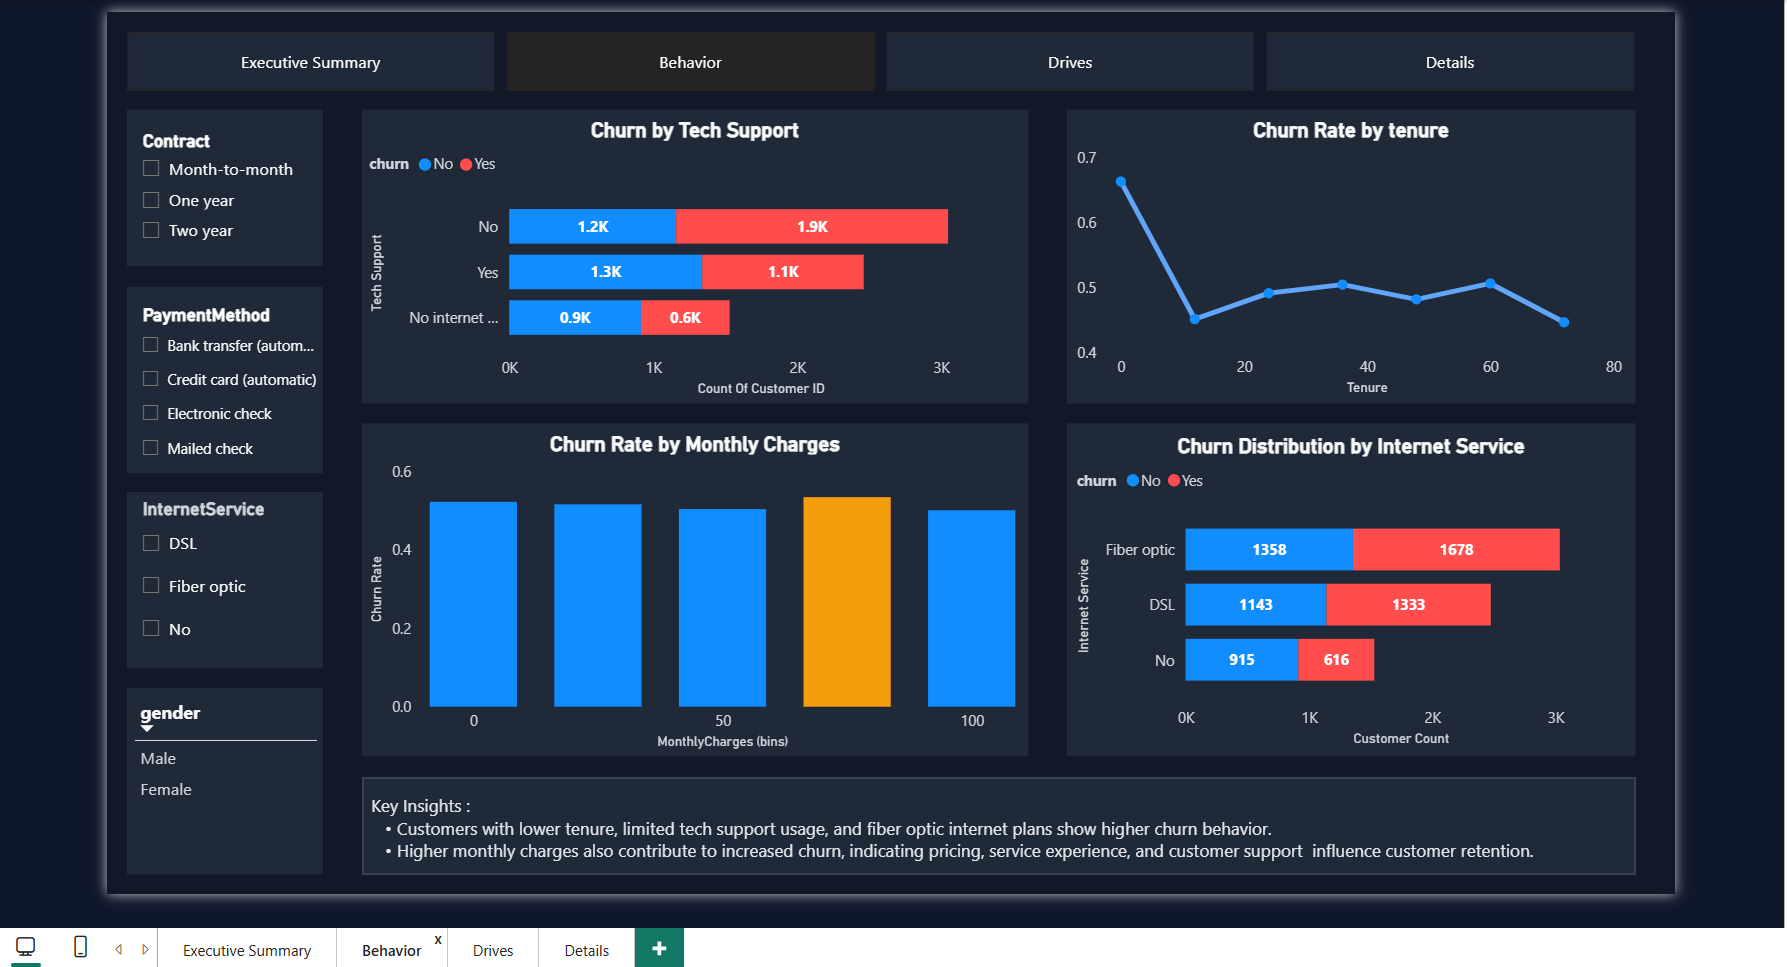

The page's visual inventory and layout, read from the dashboard file:
{"tool":"powerbi","page":{"name":"Behavior ","canvas":[1280,720],"ordinal":1},"visuals":[{"type":"slicer","title":"Contract Type","fields":{"Values":["churn_project customers.Contract"]},"box":[16,80,160,128],"z":0},{"type":"slicer","title":"Payment Method","fields":{"Values":["churn_project customers.PaymentMethod"]},"box":[16,224,160,152],"z":1000},{"type":"slicer","title":"Type of Internet Service ","fields":{"Values":["churn_project customers.InternetService"]},"box":[16,392,160,144],"z":2000},{"type":"lineChart","title":"Churn Rate by tenure ","fields":{"Category":["churn_project customers.tenure (bins)"],"Y":["churn_project customers.Churn Rate"]},"box":[784,80,464,240],"z":3000},{"type":"barChart","title":"Churn by Tech Support ","fields":{"Y":["CountNonNull(churn_project fact_churn.customerID)"],"Category":["churn_project customers.TechSupport"],"Series":["churn_project fact_churn.churn"]},"box":[208,80,544,240],"z":4000},{"type":"columnChart","title":"Churn Rate by Monthly Charges ","fields":{"Category":["churn_project customers.MonthlyCharges (bins)"],"Y":["churn_project customers.Churn Rate"]},"box":[208,336,544,272],"z":5000},{"type":"tableEx","fields":{"Values":["churn_project customers.gender"]},"box":[16,552,160,152],"z":6000},{"type":"barChart","title":"Churn Distribution by Internet Service ","fields":{"Category":["churn_project dim_services.internet_service"],"Y":["CountNonNull(churn_project customers.Churn)"],"Series":["churn_project fact_churn.churn"]},"box":[784,336,464,272],"z":7000},{"type":"textbox","box":[208,624,1040,80],"z":8000},{"type":"pageNavigator","box":[16,16,1232,48],"z":9000}]}

Visuals, with their boxes on the page's 1280x720 design canvas (x1, y1, x2, y2). These are canvas units, not pixel positions in the 1787x967 screenshot, which may show the page scaled, cropped or inside an application window:
"Contract Type" slicer: crop(16, 80, 176, 208)
"Payment Method" slicer: crop(16, 224, 176, 376)
"Type of Internet Service " slicer: crop(16, 392, 176, 536)
"Churn Rate by tenure " lineChart: crop(784, 80, 1248, 320)
"Churn by Tech Support " barChart: crop(208, 80, 752, 320)
"Churn Rate by Monthly Charges " columnChart: crop(208, 336, 752, 608)
tableEx - churn_project customers.gender: crop(16, 552, 176, 704)
"Churn Distribution by Internet Service " barChart: crop(784, 336, 1248, 608)
textbox: crop(208, 624, 1248, 704)
pageNavigator: crop(16, 16, 1248, 64)
